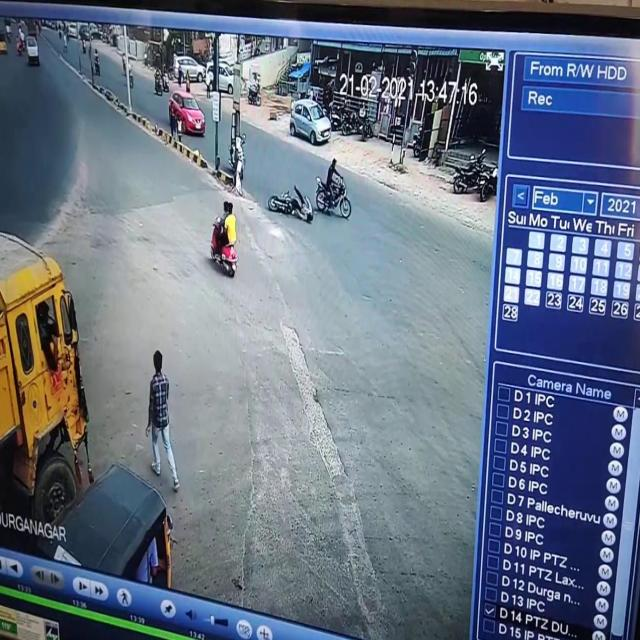accident: (263, 174, 321, 234)
